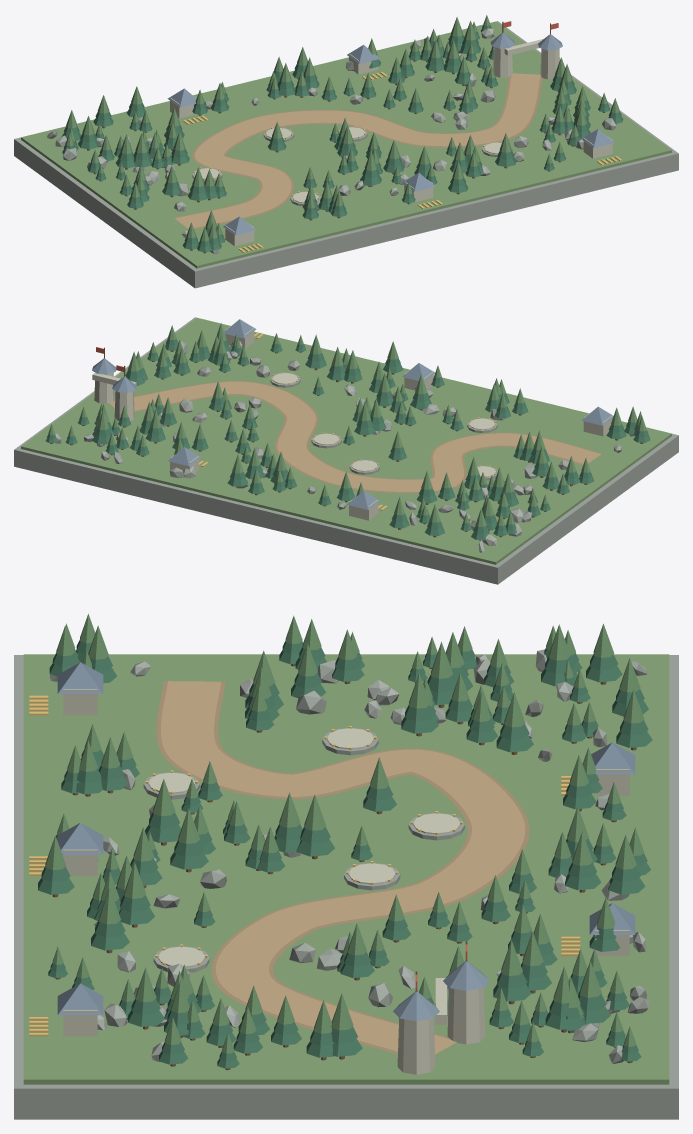
The model's file is 01_Pinewatch.fbx.
3 renders of one model, top to bottom at view 1: azimuth 30°, elevation 25°; view 2: azimuth 150°, elevation 25°; view 3: azimuth 270°, elevation 25°, orthographic. The views are drawn at different scales.
Visible parts, largest first — view 1: Ground, Scenery, Road, RoadBorder; view 2: Ground, Scenery, Road, RoadBorder; view 3: Ground, Scenery, Road, RoadBorder, Pad_03, Pad_02, Pad_04, Pad_05, Pad_01.
Part boxes in pixels (<box>): Ground: <box>14,21,678,288</box>; Scenery: <box>47,15,623,254</box>; Road: <box>175,73,540,228</box>; RoadBorder: <box>174,75,542,229</box>; Ground: <box>14,317,678,584</box>; Scenery: <box>45,319,650,552</box>; Road: <box>109,381,601,491</box>; RoadBorder: <box>109,381,602,493</box>; Ground: <box>14,654,678,1119</box>; Scenery: <box>29,614,652,1074</box>; Road: <box>161,681,525,1053</box>; RoadBorder: <box>156,681,529,1054</box>; Pad_03: <box>408,811,464,840</box>; Pad_02: <box>322,726,378,755</box>; Pad_04: <box>344,861,400,890</box>; Pad_05: <box>153,944,209,972</box>; Pad_01: <box>143,770,199,799</box>.
Size of the model in its own units: 54 by 7.6 by 35.
